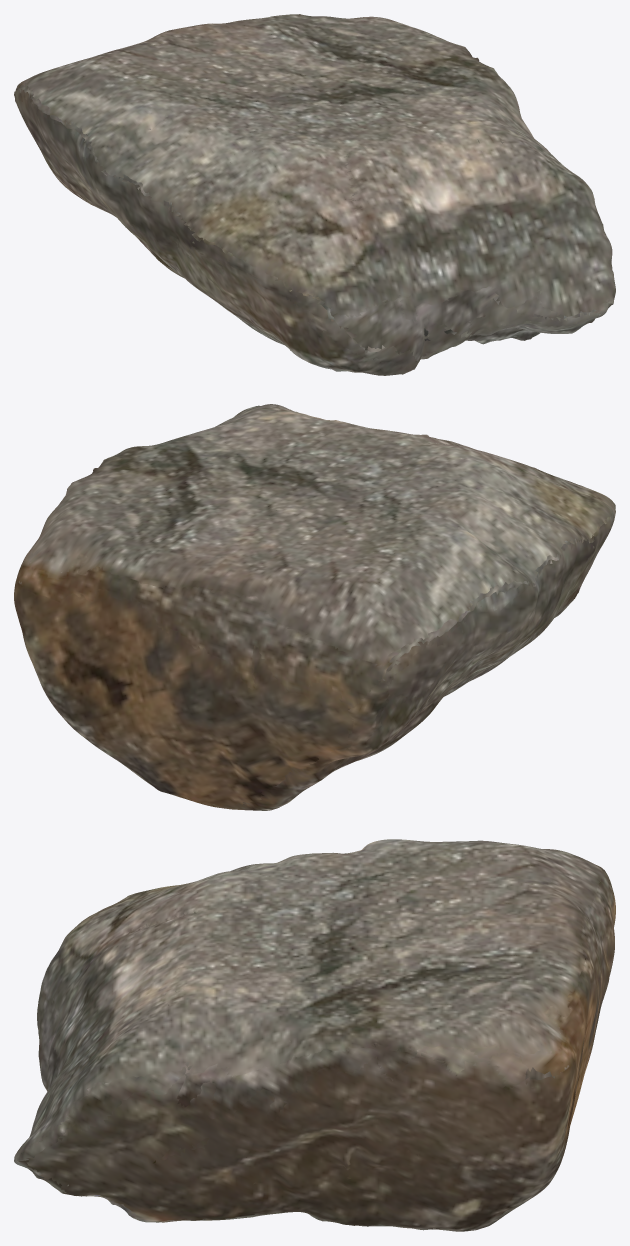
The model's file is hematite-specular.glb.
The picture shows the model from 3 angles, top to bottom: view 1: azimuth 30°, elevation 25°; view 2: azimuth 150°, elevation 25°; view 3: azimuth 270°, elevation 25°; orthographic projection. The views are drawn at different scales.
Parts seen in each view (by area): view 1: Object_2, Object_3; view 2: Object_2, Object_3; view 3: Object_2, Object_3.
Boxes of the visible parts, x1,y1,x2,y2 form: Object_2: [14, 14, 615, 375]; Object_3: [78, 191, 614, 357]; Object_2: [14, 404, 615, 810]; Object_3: [30, 579, 584, 761]; Object_2: [14, 839, 615, 1231]; Object_3: [17, 994, 583, 1169].
Bounding box in the file's own units: 62.26 × 35.35 × 75.14.
1 material, 1 textured.
